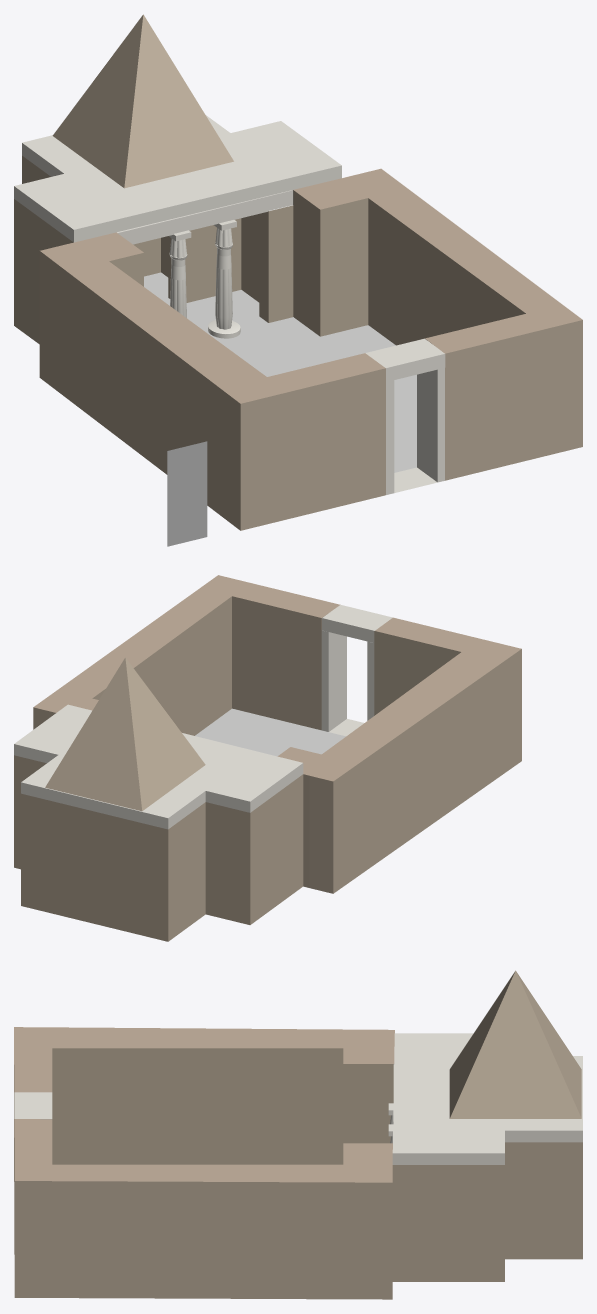
Rendered from NK_Chapel.glb.
The picture shows the model from 3 angles, top to bottom: view 1: azimuth 30°, elevation 25°; view 2: azimuth 150°, elevation 25°; view 3: azimuth 270°, elevation 25°; orthographic projection. The views are drawn at different scales.
Visible parts, largest first — view 1: Mesh7 Model, Mesh6 Component_8_1 Model, Mesh8 Model, Mesh9 Model, Mesh5 Component_7_1 Model, Mesh1 Component_13_1 Model, Mesh3 Component_13_2 Model; view 2: Mesh7 Model, Mesh8 Model, Mesh6 Component_8_1 Model; view 3: Mesh7 Model, Mesh8 Model, Mesh6 Component_8_1 Model.
Part boxes in pixels (left/top/right/bottom): Mesh7 Model: left=14, top=156, right=582, bottom=530; Mesh6 Component_8_1 Model: left=14, top=115, right=341, bottom=242; Mesh8 Model: left=52, top=14, right=233, bottom=188; Mesh9 Model: left=167, top=441, right=207, bottom=546; Mesh5 Component_7_1 Model: left=117, top=190, right=292, bottom=244; Mesh1 Component_13_1 Model: left=214, top=220, right=236, bottom=329; Mesh3 Component_13_2 Model: left=169, top=230, right=191, bottom=317; Mesh7 Model: left=14, top=575, right=521, bottom=941; Mesh8 Model: left=45, top=657, right=205, bottom=811; Mesh6 Component_8_1 Model: left=14, top=704, right=303, bottom=829; Mesh7 Model: left=14, top=1027, right=582, bottom=1299; Mesh8 Model: left=449, top=970, right=581, bottom=1118; Mesh6 Component_8_1 Model: left=392, top=1033, right=582, bottom=1164.
Size of the model in its own units: 7.3 by 4.59 by 9.36.
